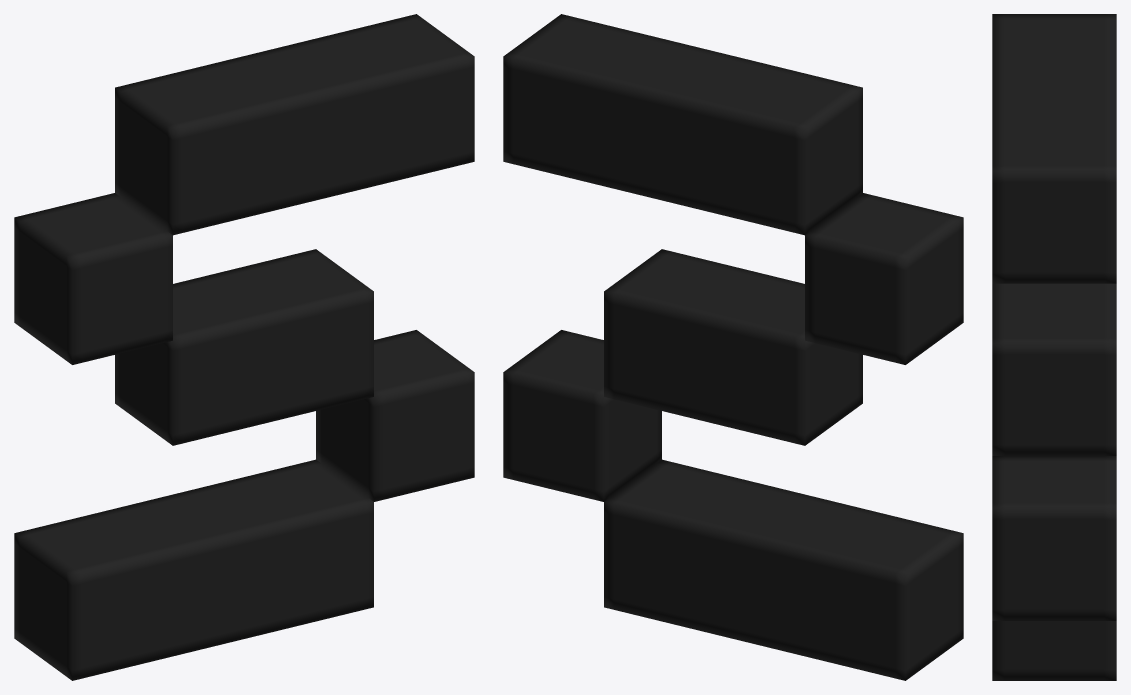
The model's file is font_s.glb.
3 views of the same model, side by side, from view 1: azimuth 30°, elevation 25°; view 2: azimuth 150°, elevation 25°; view 3: azimuth 270°, elevation 25° (orthographic). The views are drawn at different scales.
Visible parts, largest first — view 1: letter_s; view 2: letter_s; view 3: letter_s.
Boxes of the visible parts, left/top/right/bottom form: letter_s: left=14, top=14, right=474, bottom=680; letter_s: left=503, top=14, right=963, bottom=680; letter_s: left=992, top=14, right=1116, bottom=680.
Bounding box in the file's own units: 0.8 × 1 × 0.2.
1 material, 1 textured.
